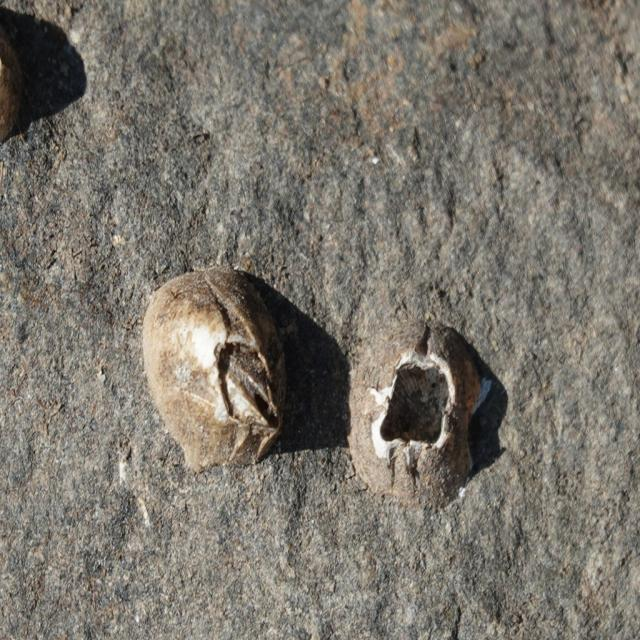barnacles: (331, 309, 484, 535), (130, 270, 283, 494)
